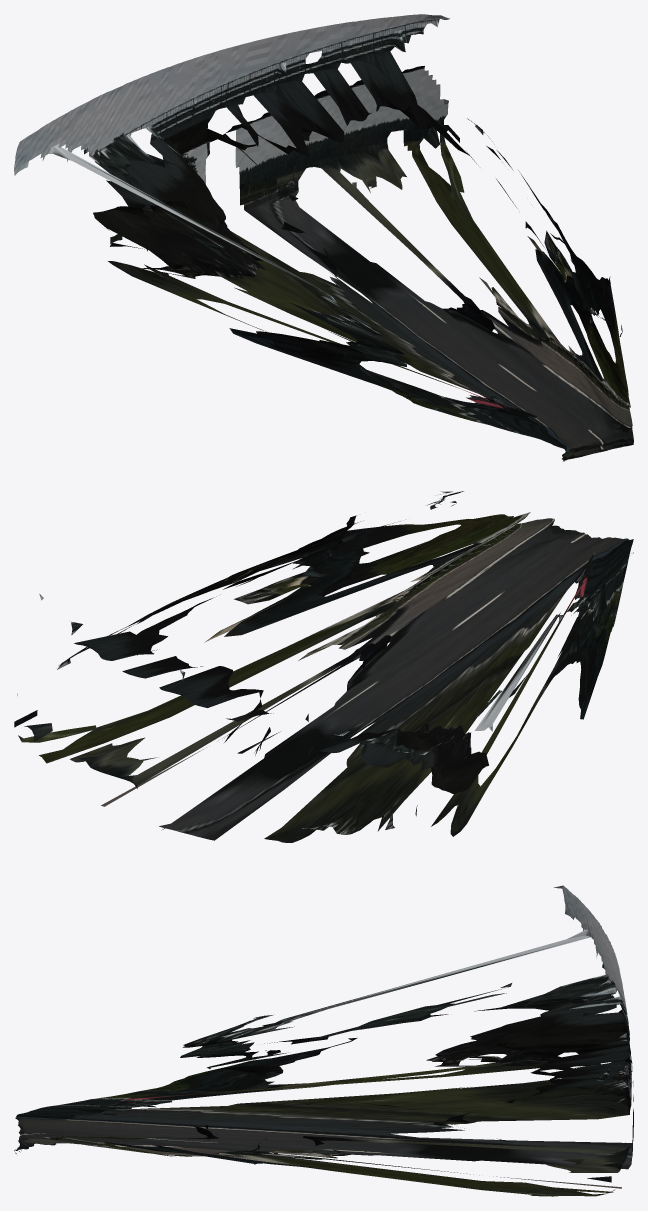
The picture shows the model from 3 angles, top to bottom: view 1: azimuth 30°, elevation 25°; view 2: azimuth 150°, elevation 25°; view 3: azimuth 270°, elevation 25°; orthographic projection. The views are drawn at different scales.
Visible parts, largest first — view 1: defaultobject; view 2: defaultobject; view 3: defaultobject.
Part boxes in pixels (x1,y1,x2,y2): defaultobject: (14,14,633,461); defaultobject: (14,491,633,842); defaultobject: (14,885,633,1196).
Bounding box in the file's own units: 33.68 × 12.46 × 44.33.
1 material, 1 textured.
